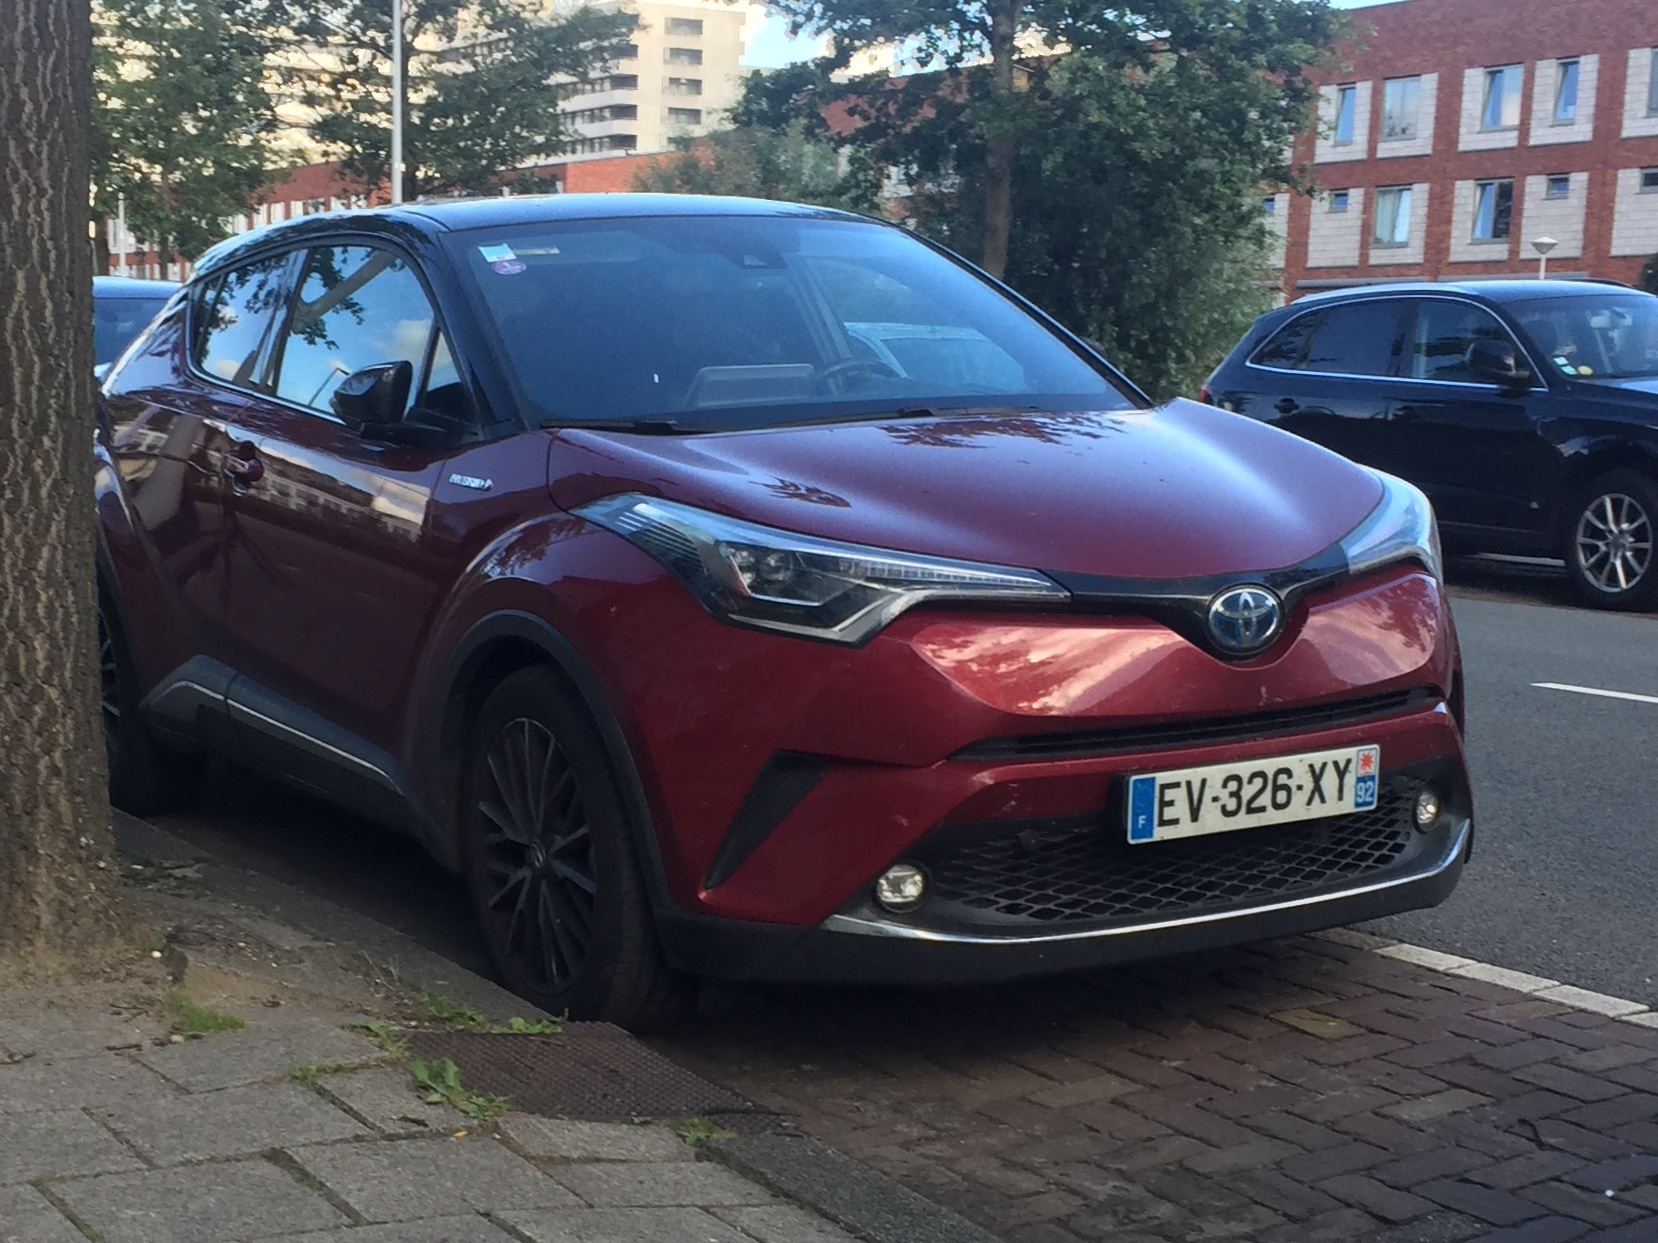licence plate: (1120, 735, 1386, 847)
